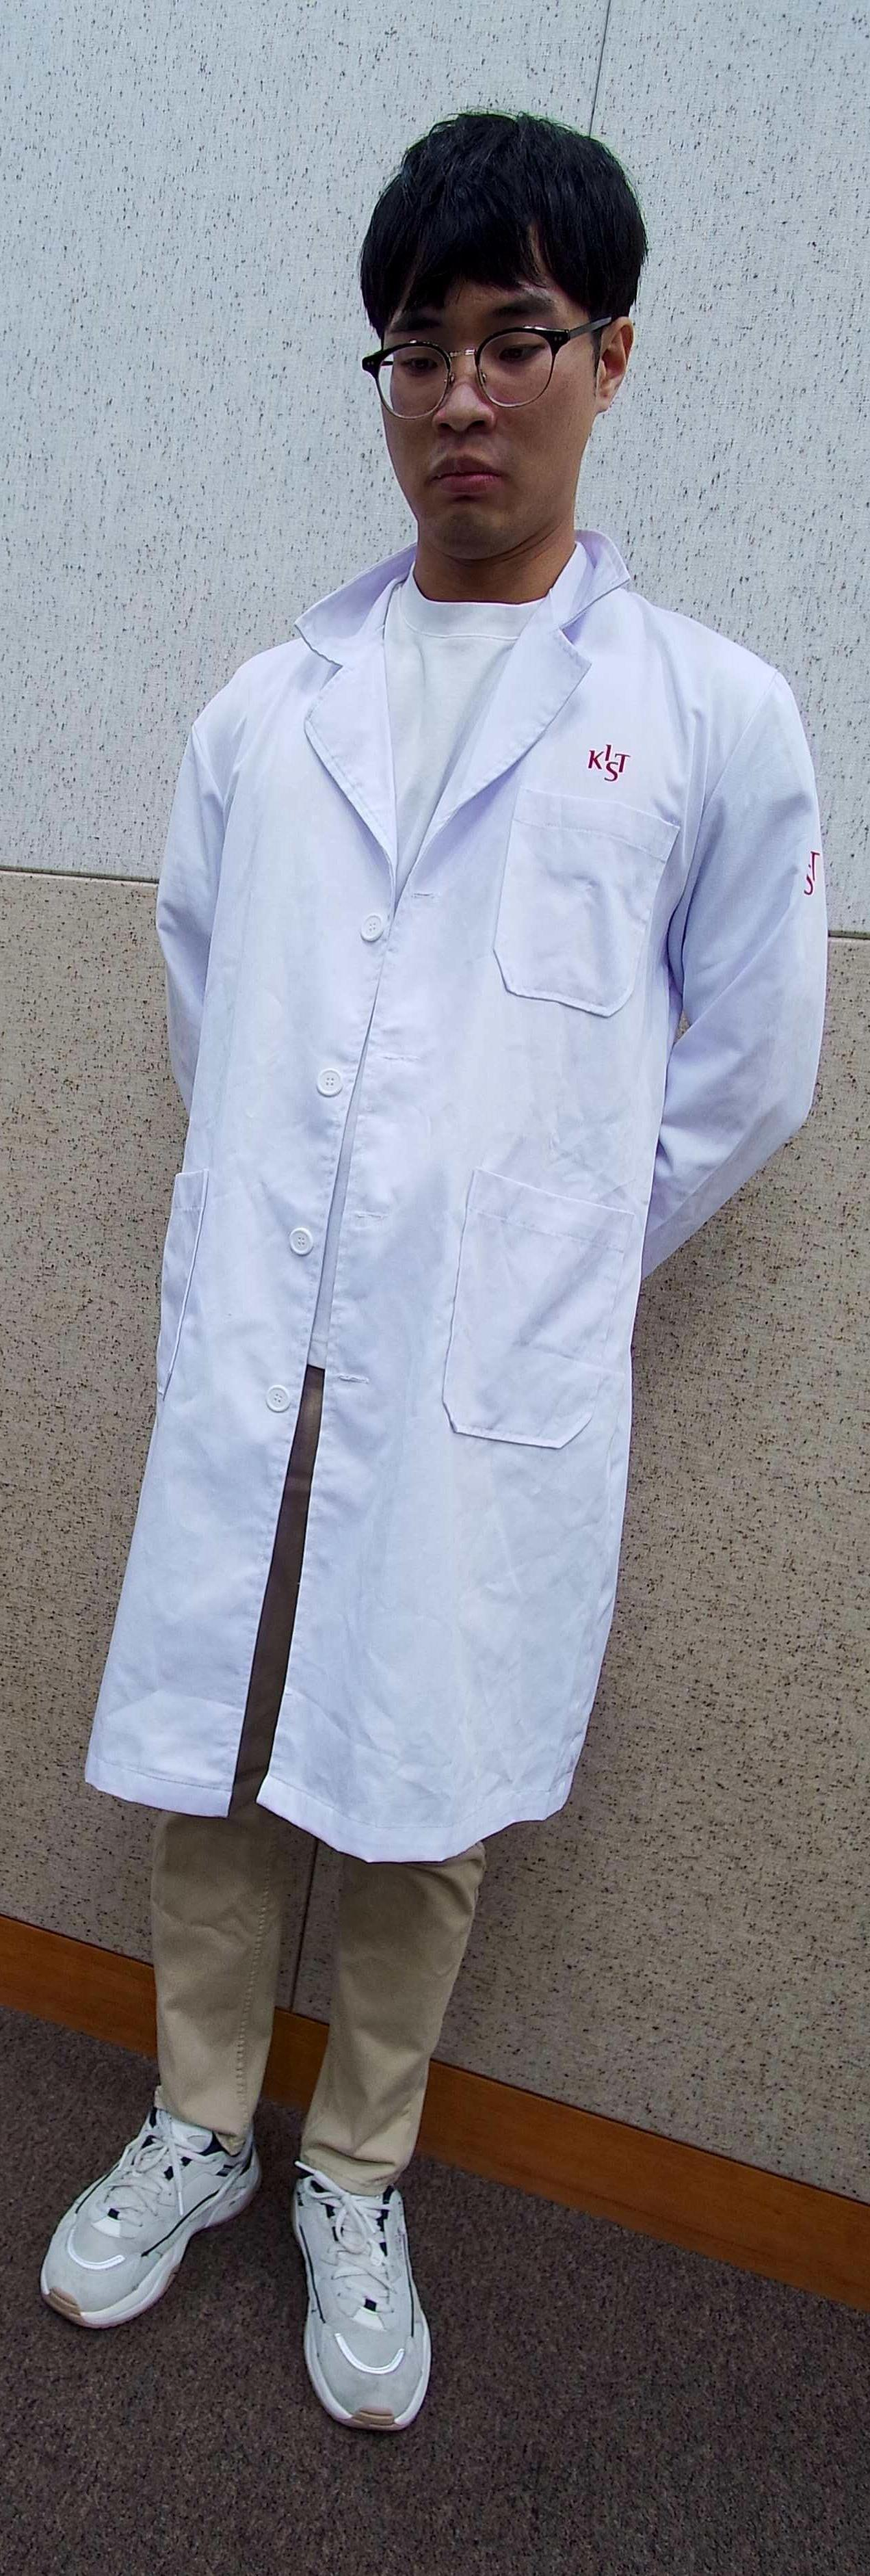lab_coat: (100, 631, 678, 1833)
